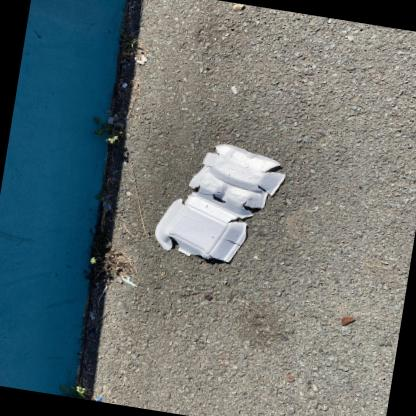Paper: (123, 51, 134, 54)
Plastic: (97, 284, 108, 305), (122, 274, 136, 285), (230, 85, 237, 93)
Waste: (155, 143, 285, 261), (107, 115, 113, 123), (103, 202, 111, 208), (96, 395, 101, 401)
